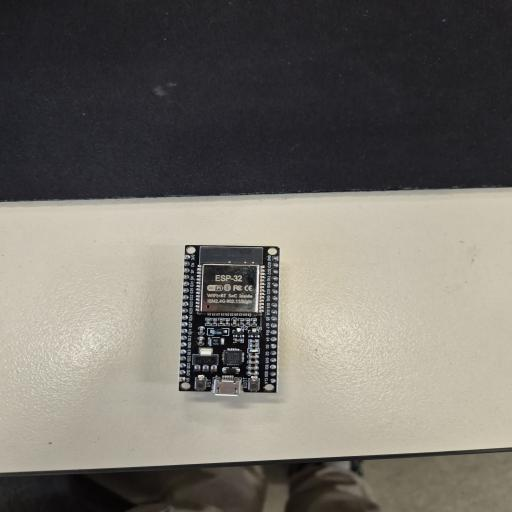esp32-dev: (179, 245, 279, 396)
